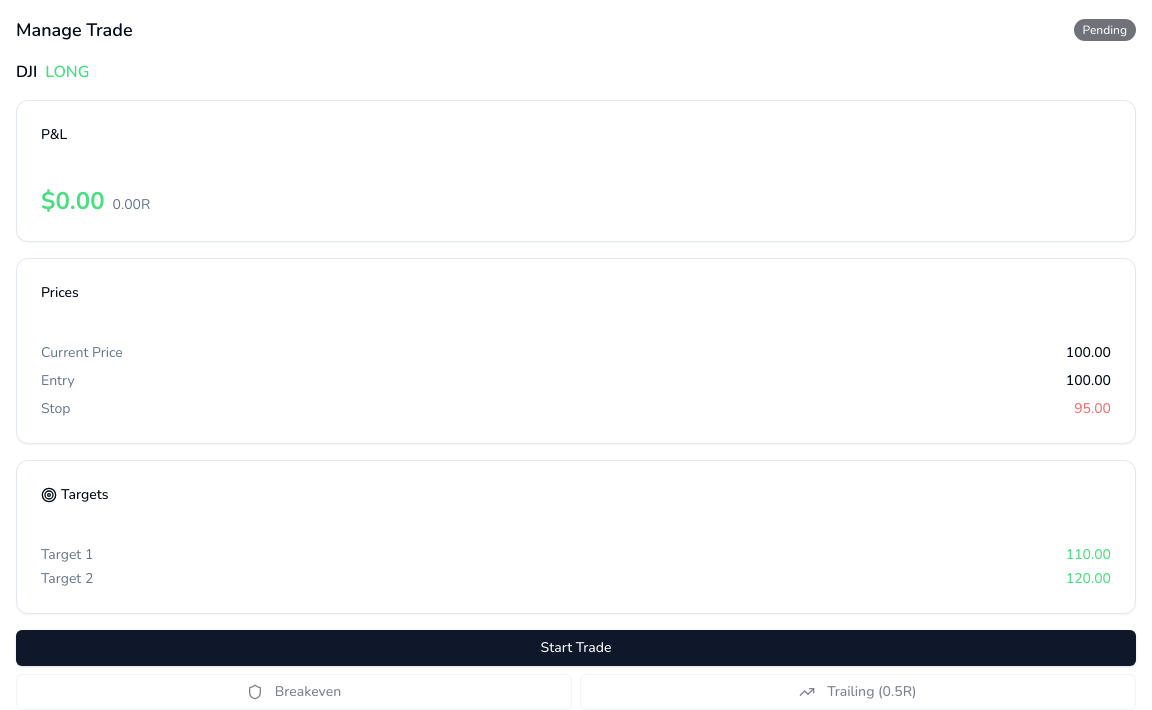
Test: ManagePanel › breakeven button › should update status to at_breakeven
Click the button "Start Trade". click: (576, 648)
box: [16, 630, 1136, 666]
(page scrolled)
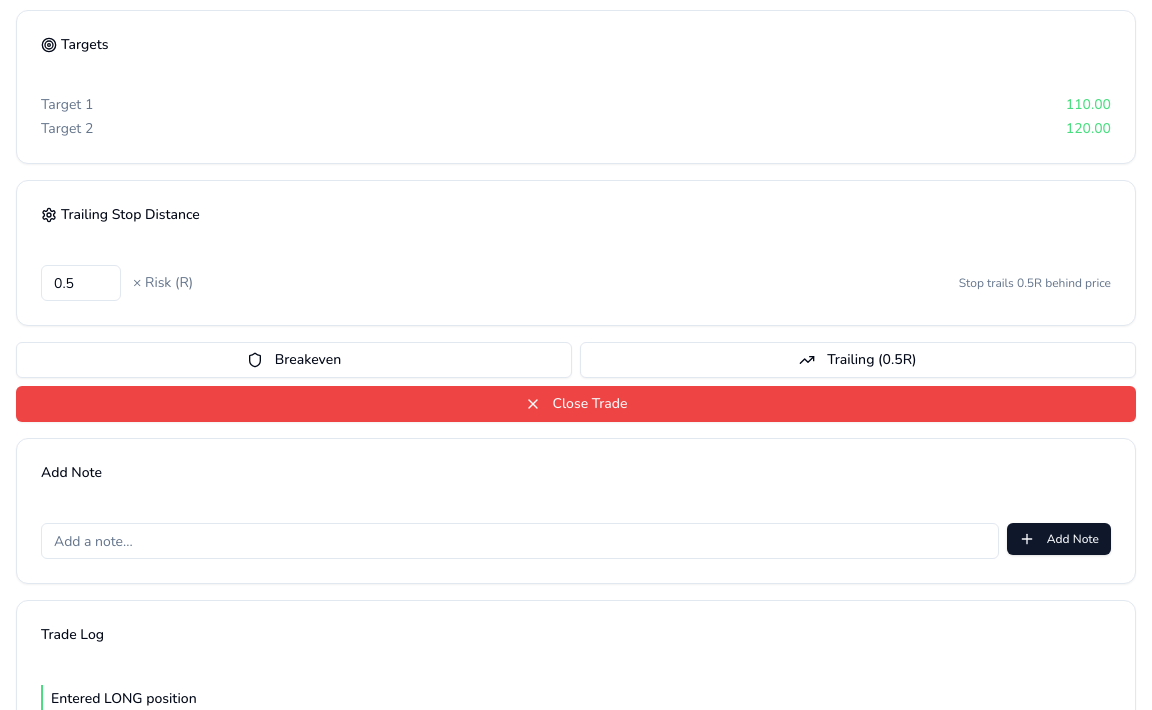
Click the button "Breakeven". click: (294, 360)
box: [16, 342, 572, 378]
(page scrolled)
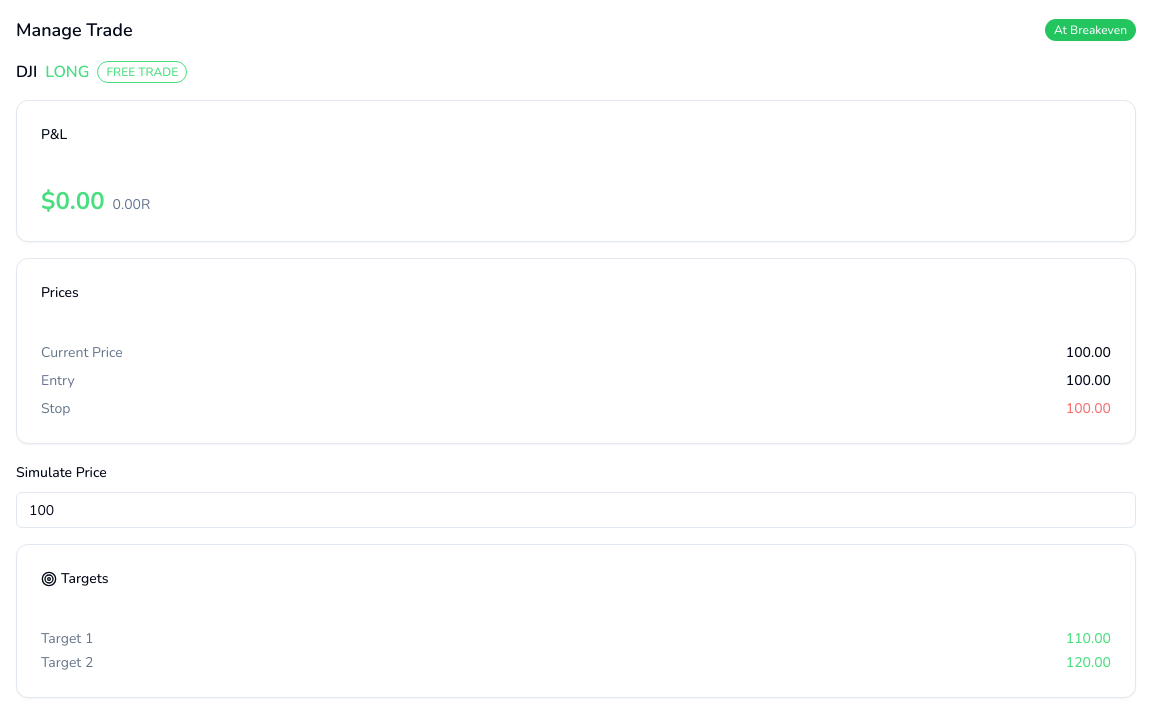
Expected: the text "At Breakeven" is shown, [1045, 19, 1136, 41]
